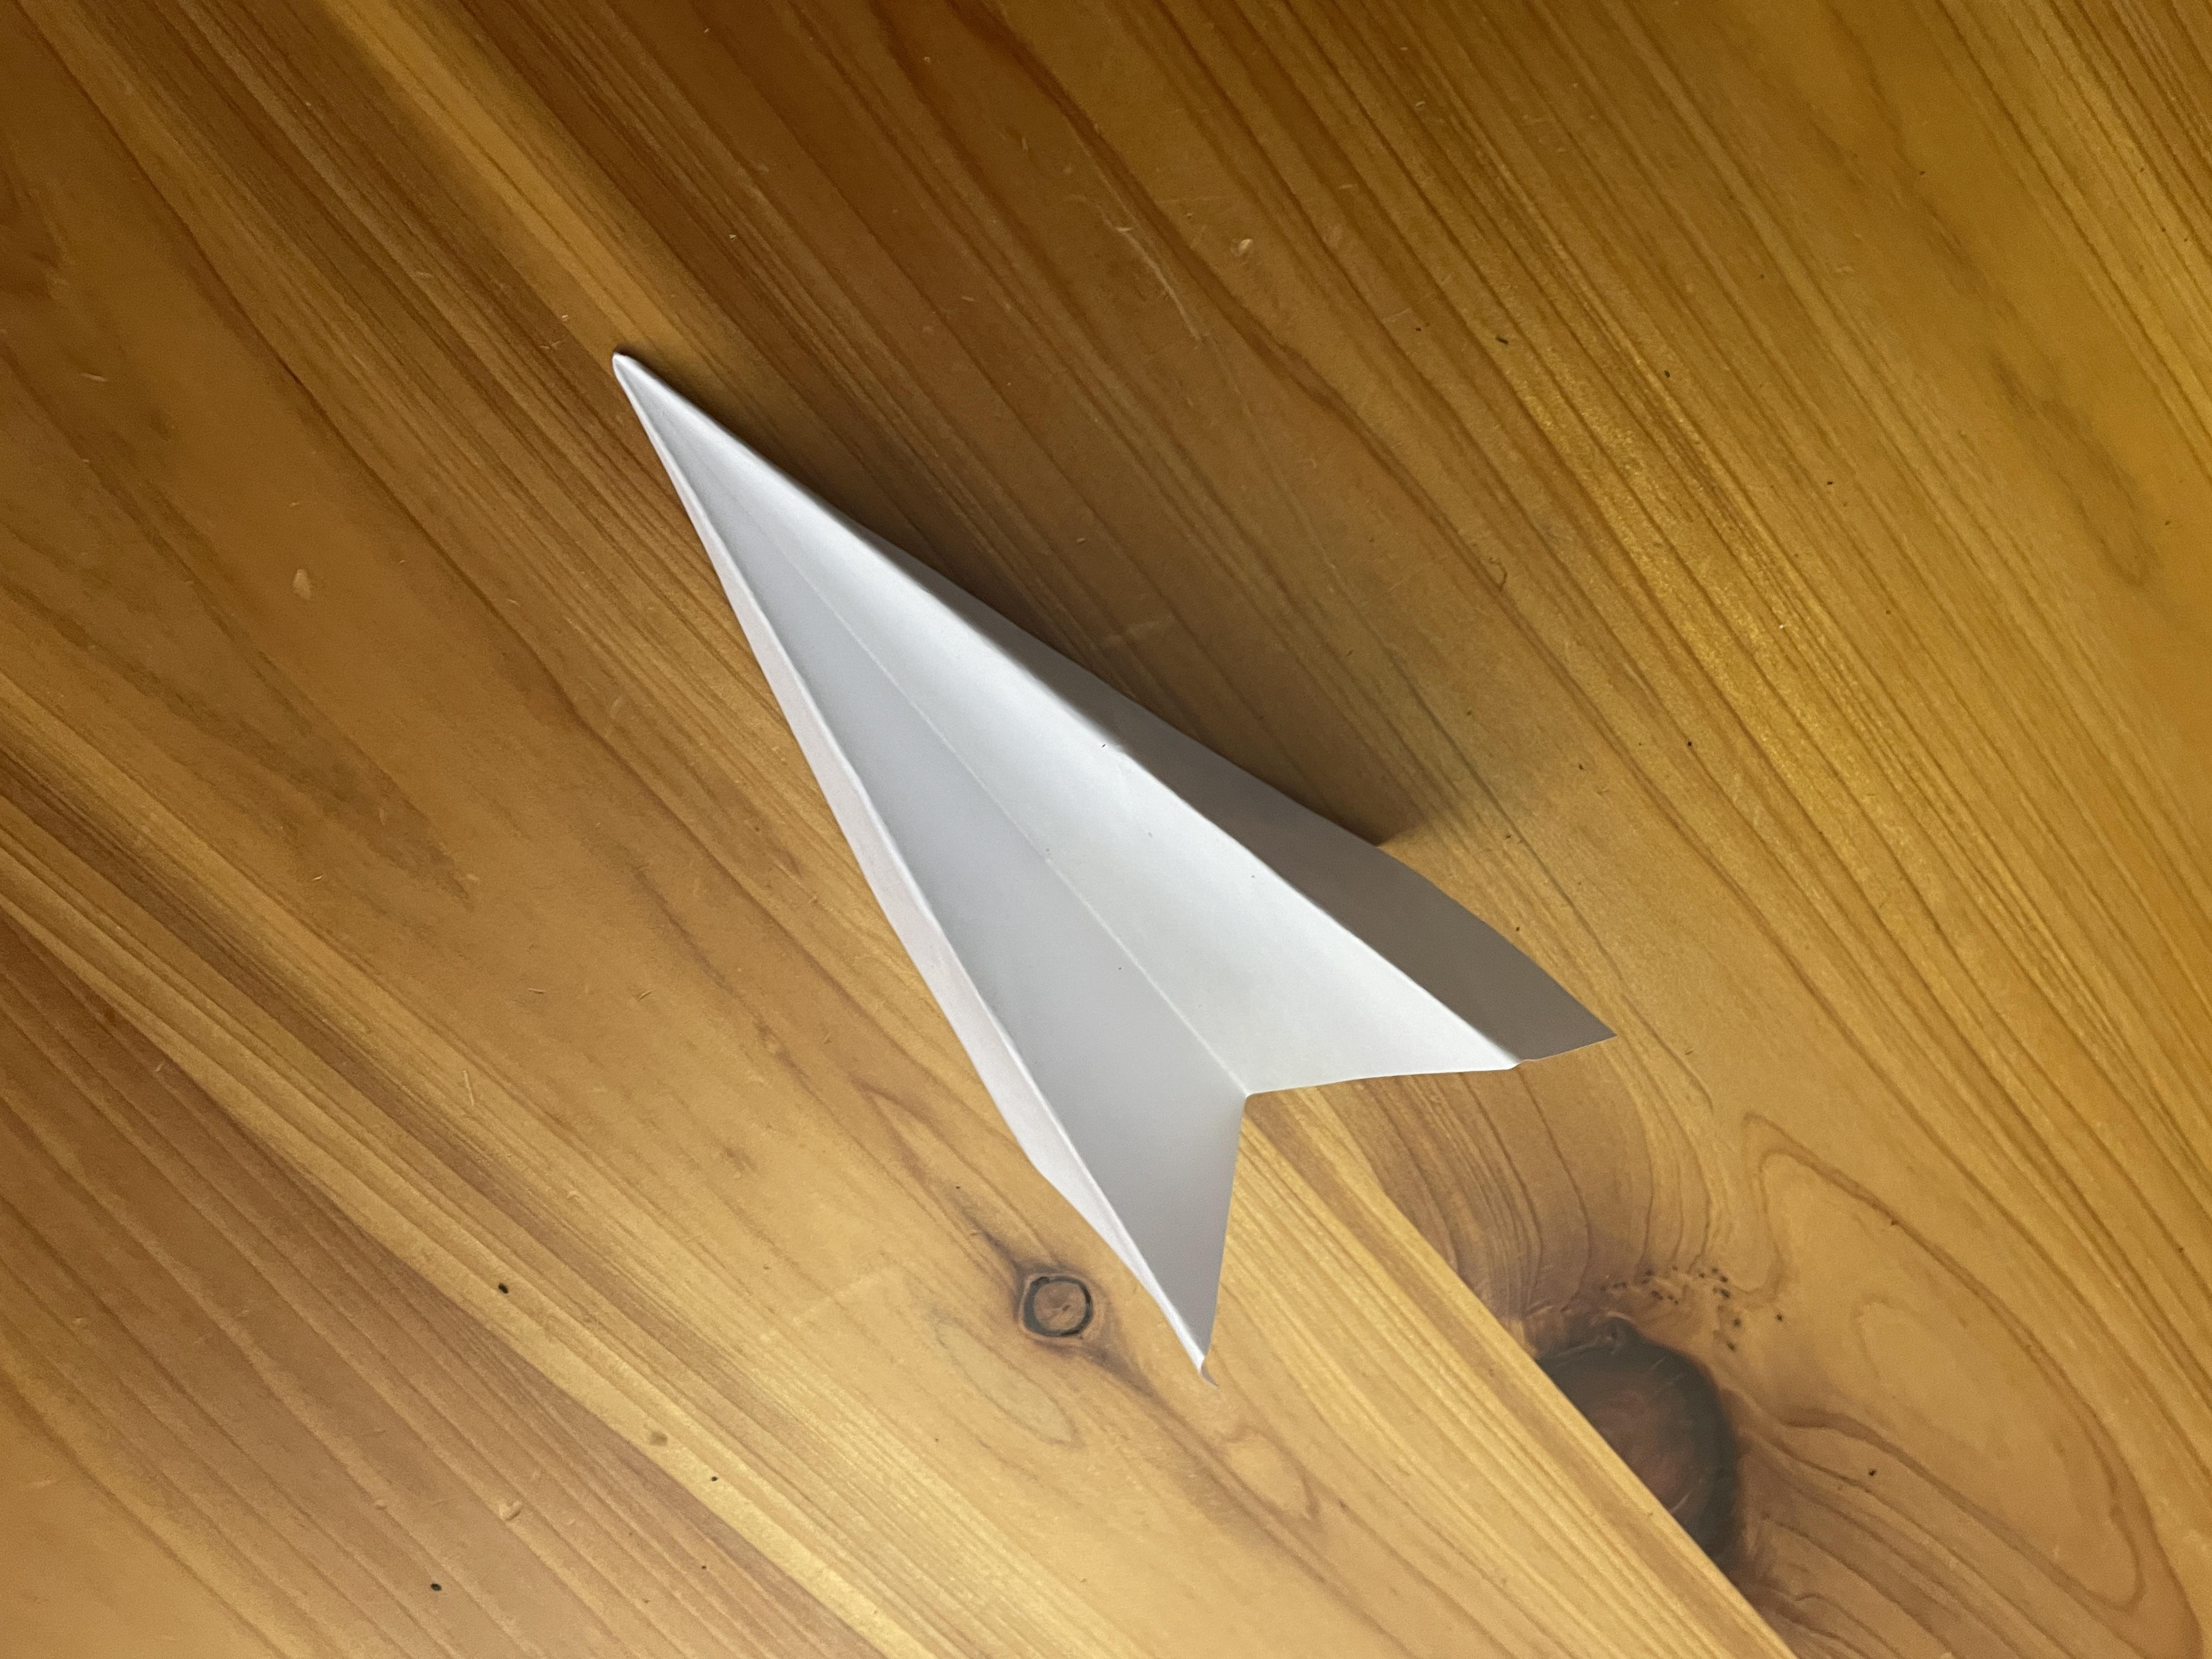shape_3: (507, 223, 1742, 1474)
